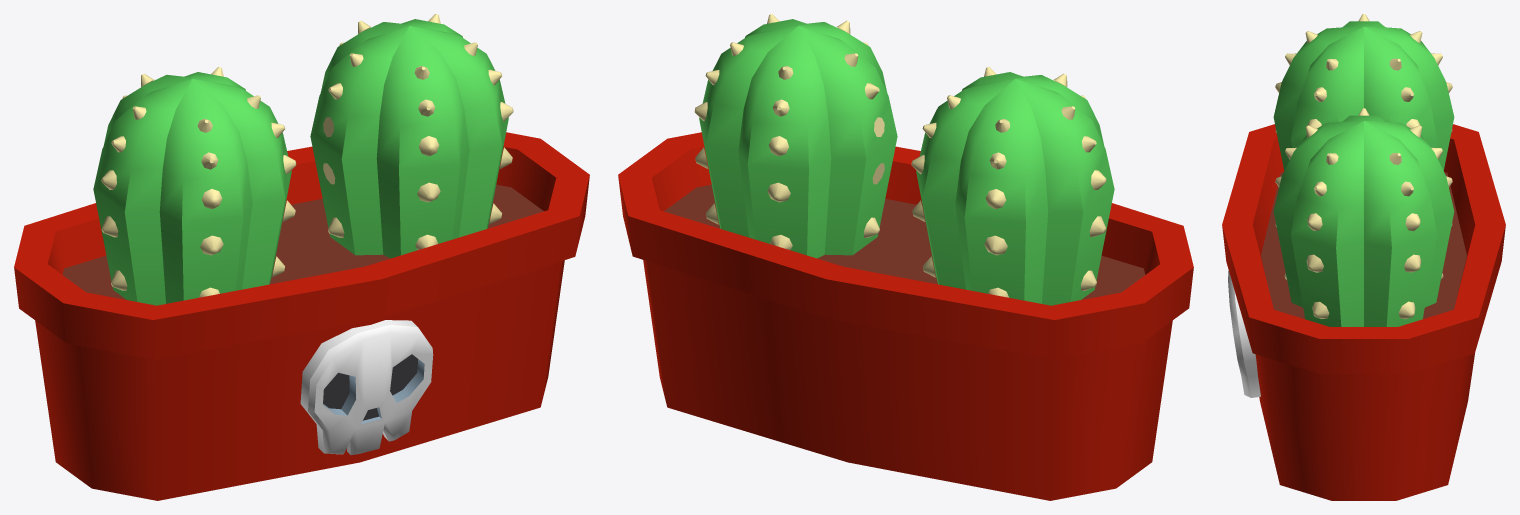
File: CacteeDuo.fbx
3 renders of one model, left to right at view 1: azimuth 30°, elevation 25°; view 2: azimuth 150°, elevation 25°; view 3: azimuth 270°, elevation 25°, orthographic. The views are drawn at different scales.
Visible parts, largest first — view 1: Cactus.Duo; view 2: Cactus.Duo; view 3: Cactus.Duo.
Boxes of the visible parts, x1,y1,x2,y2 form: Cactus.Duo: (14, 14, 589, 500); Cactus.Duo: (618, 14, 1193, 500); Cactus.Duo: (1222, 14, 1505, 500).
Size of the model in its own units: 537 by 358 by 282.
